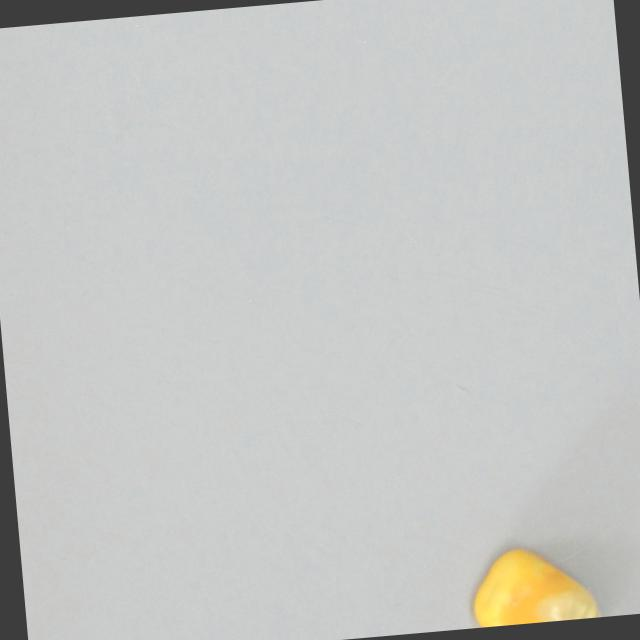entero: (455, 530, 614, 629)
